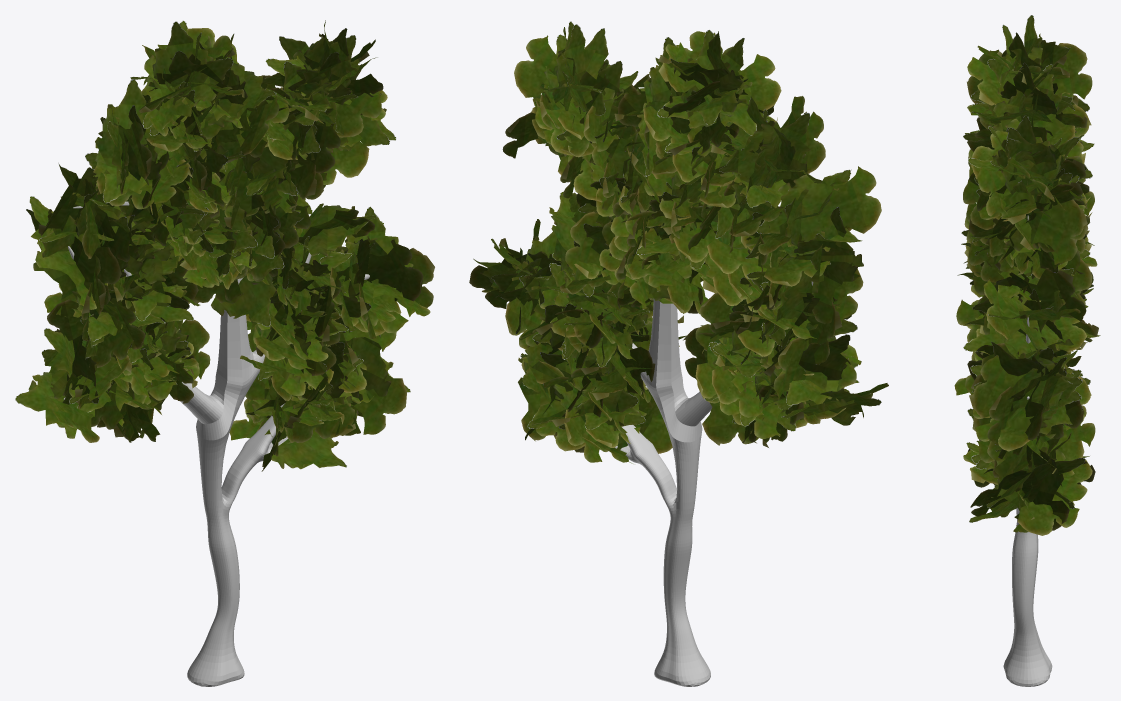
The model's file is arbol.obj.
3 views of the same model, side by side, from view 1: azimuth 30°, elevation 25°; view 2: azimuth 150°, elevation 25°; view 3: azimuth 270°, elevation 25° (orthographic). The views are drawn at different scales.
Visible parts, largest first — view 1: Tree_Branch, Cube; view 2: Tree_Branch, Cube; view 3: Tree_Branch, Cube.
Part boxes in pixels (<box>): Tree_Branch: <box>15,20,434,471</box>; Cube: <box>63,201,369,686</box>; Tree_Branch: <box>469,21,888,463</box>; Cube: <box>614,206,813,686</box>; Tree_Branch: <box>954,15,1100,535</box>; Cube: <box>1003,117,1052,686</box>.
Size of the model in its own units: 3.54 by 5.44 by 1.3.
